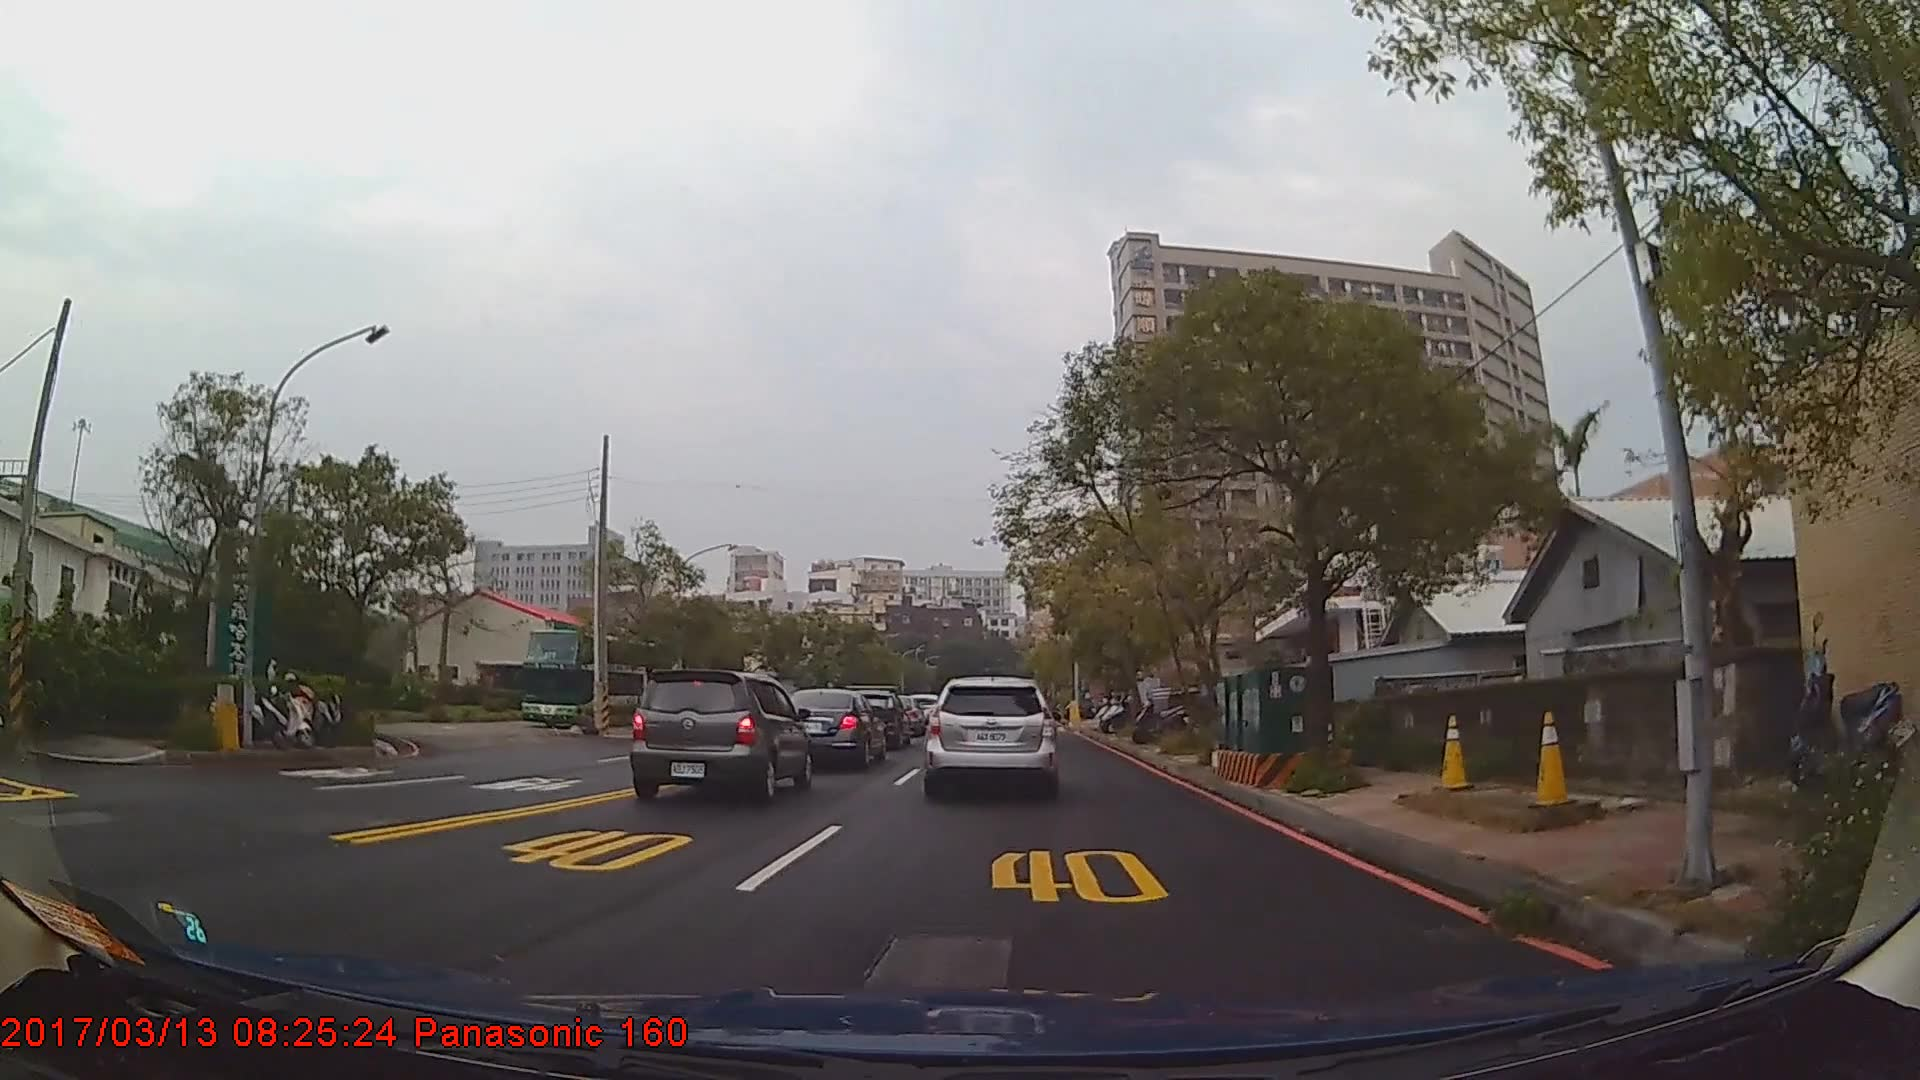vehicle: (624, 669, 808, 803), (518, 628, 679, 735), (923, 674, 1058, 794), (773, 687, 885, 771)
